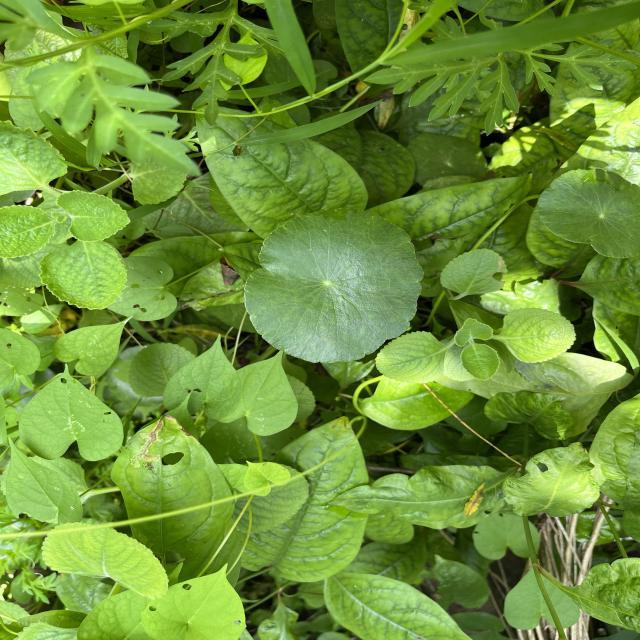Bacopa monnieri: (242, 206, 426, 366), (534, 167, 640, 260)
